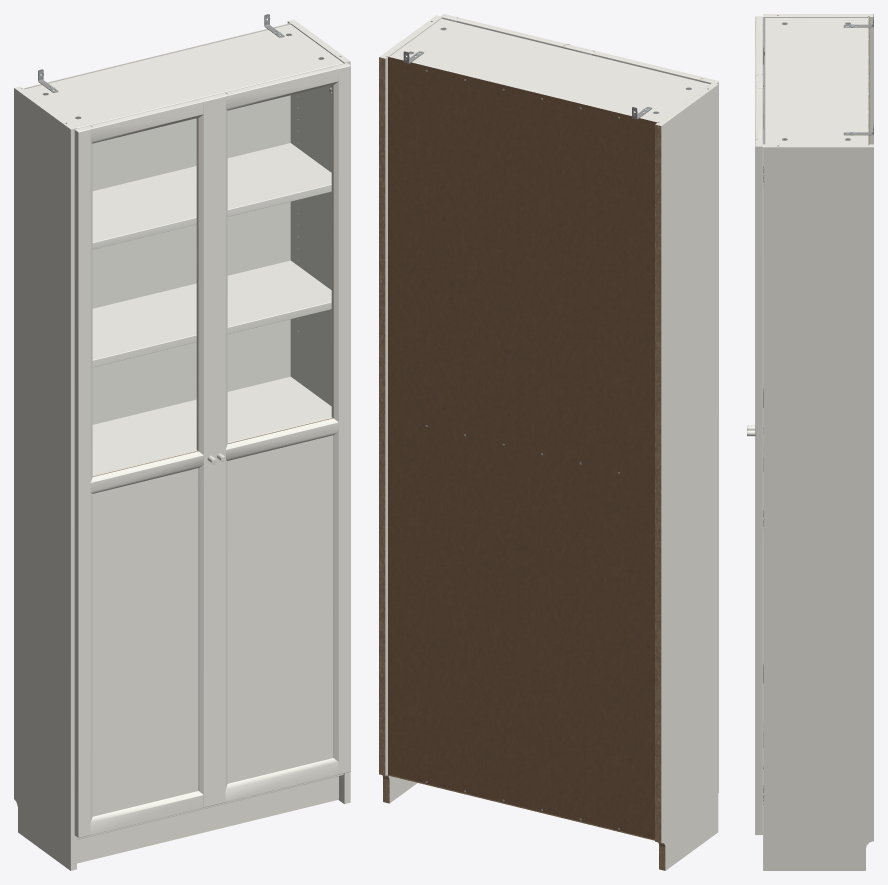
Rendered from billy_oxberg_rega_para_drzw_panelowych_szklan_69281776.glb.
3 views of the same model, side by side, from view 1: azimuth 30°, elevation 25°; view 2: azimuth 150°, elevation 25°; view 3: azimuth 270°, elevation 25° (orthographic). The views are drawn at different scales.
Parts seen in each view (by area): view 1: billy_oxberg_rega_para_drzw_panelowych_szklan_69281776; view 2: billy_oxberg_rega_para_drzw_panelowych_szklan_69281776; view 3: billy_oxberg_rega_para_drzw_panelowych_szklan_69281776.
Part boxes in pixels (box(x1,y1,x2,y2)): billy_oxberg_rega_para_drzw_panelowych_szklan_69281776: box(14, 14, 350, 870); billy_oxberg_rega_para_drzw_panelowych_szklan_69281776: box(379, 14, 718, 870); billy_oxberg_rega_para_drzw_panelowych_szklan_69281776: box(747, 14, 873, 870).
Size of the model in its own units: 0.798 by 2.05 by 0.321.
Materials: 2 (1 with a texture image).
